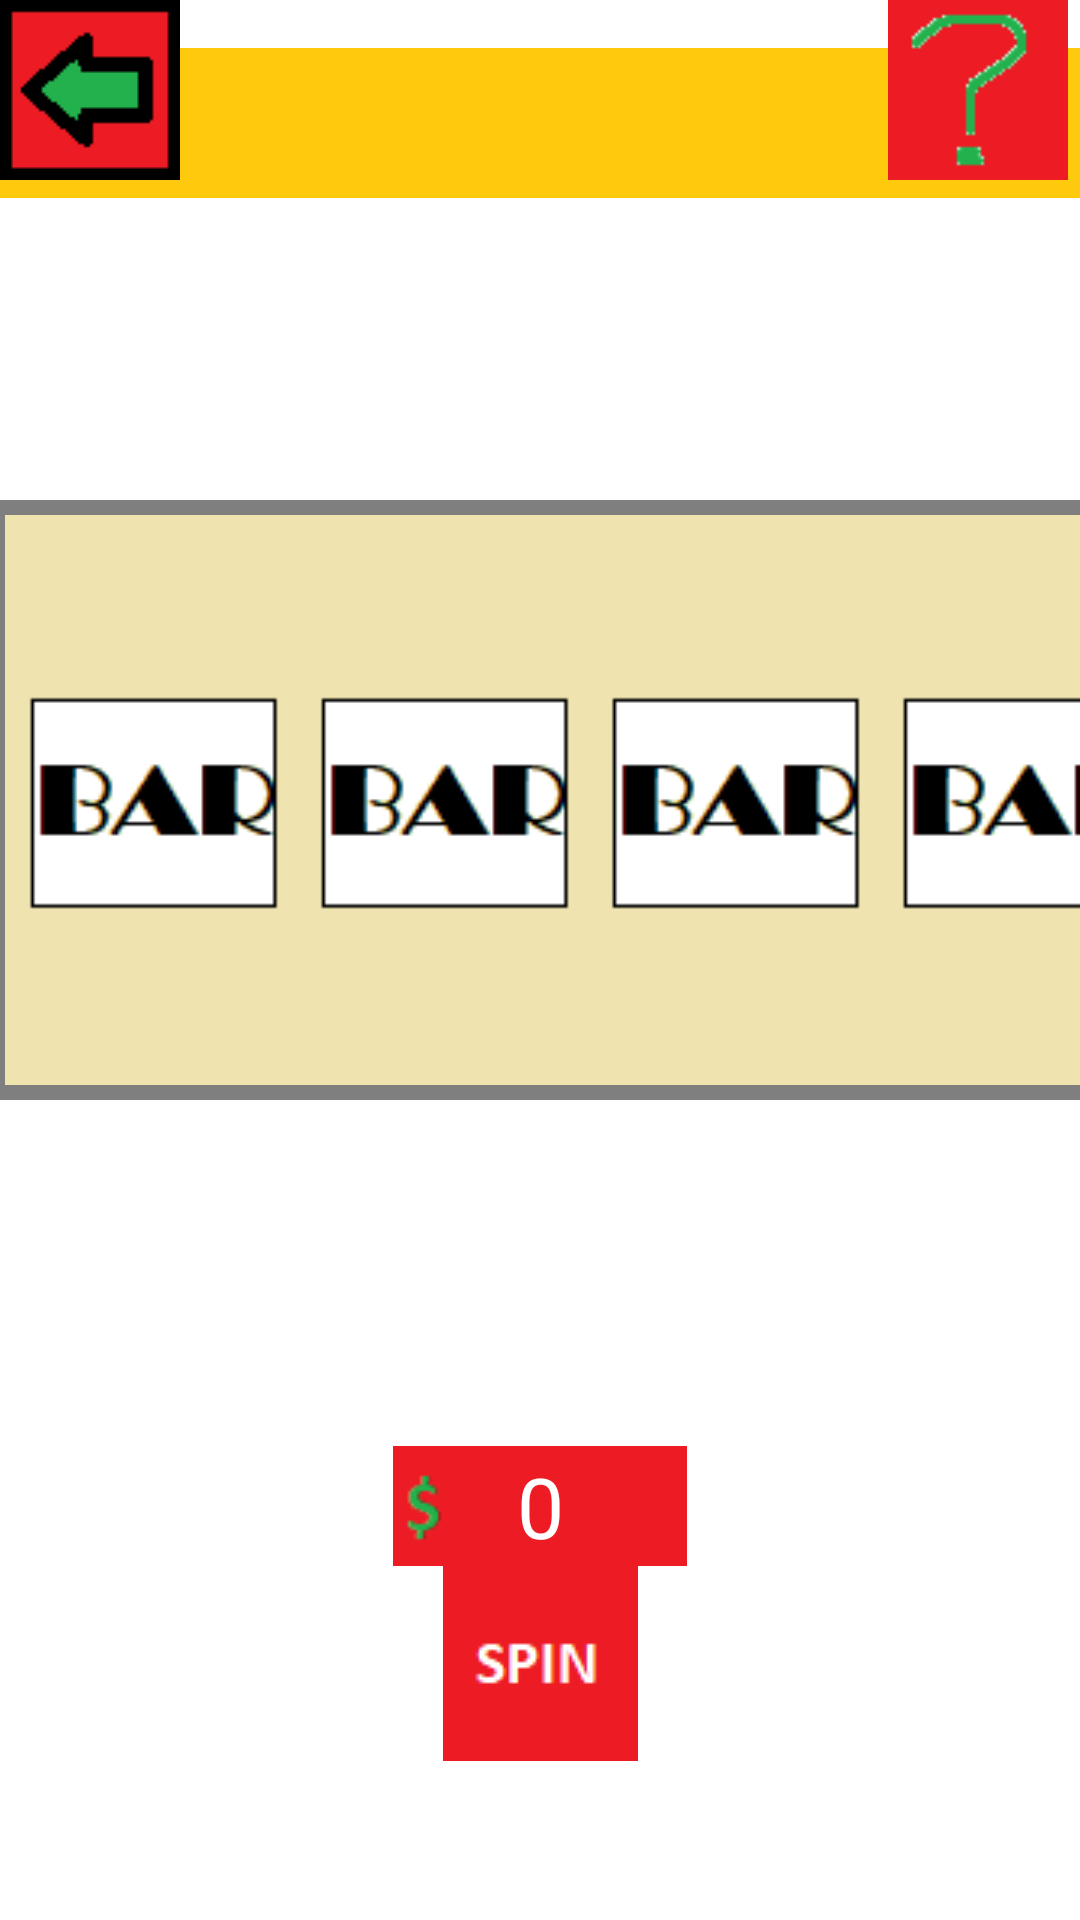

Icon click points for this 1080*1920 phone screenshot, format (x=x, y=y):
Exit Button: (x=90, y=90)
Help Button: (x=978, y=90)
